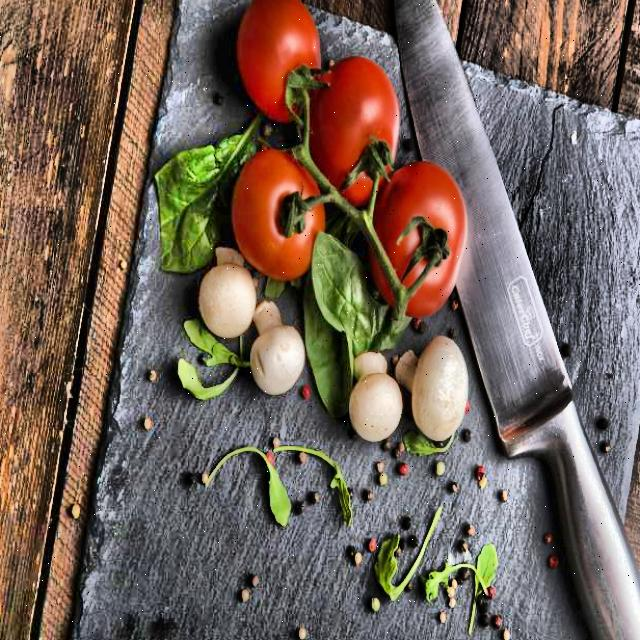knife: (382, 0, 640, 640)
